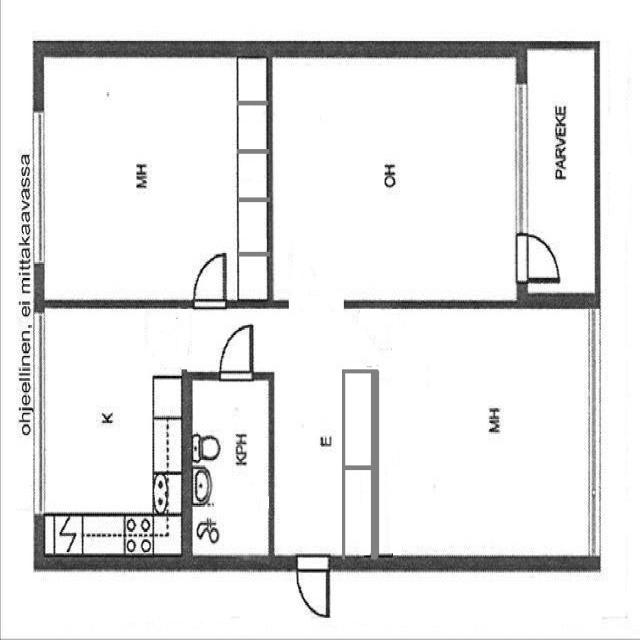door: (285, 258, 343, 312), (292, 551, 334, 623), (511, 228, 564, 282), (189, 245, 231, 310), (216, 321, 257, 382)
window: (24, 304, 54, 521), (508, 72, 538, 244), (24, 103, 52, 281)
zone: (268, 52, 523, 306), (366, 306, 596, 565), (38, 51, 250, 306), (36, 306, 185, 562), (270, 306, 372, 570), (187, 374, 271, 560)
